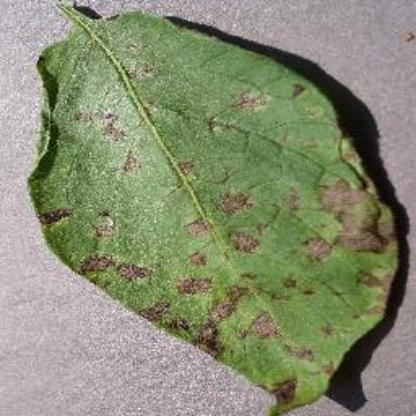Early-Blight: (17, 0, 408, 416)
